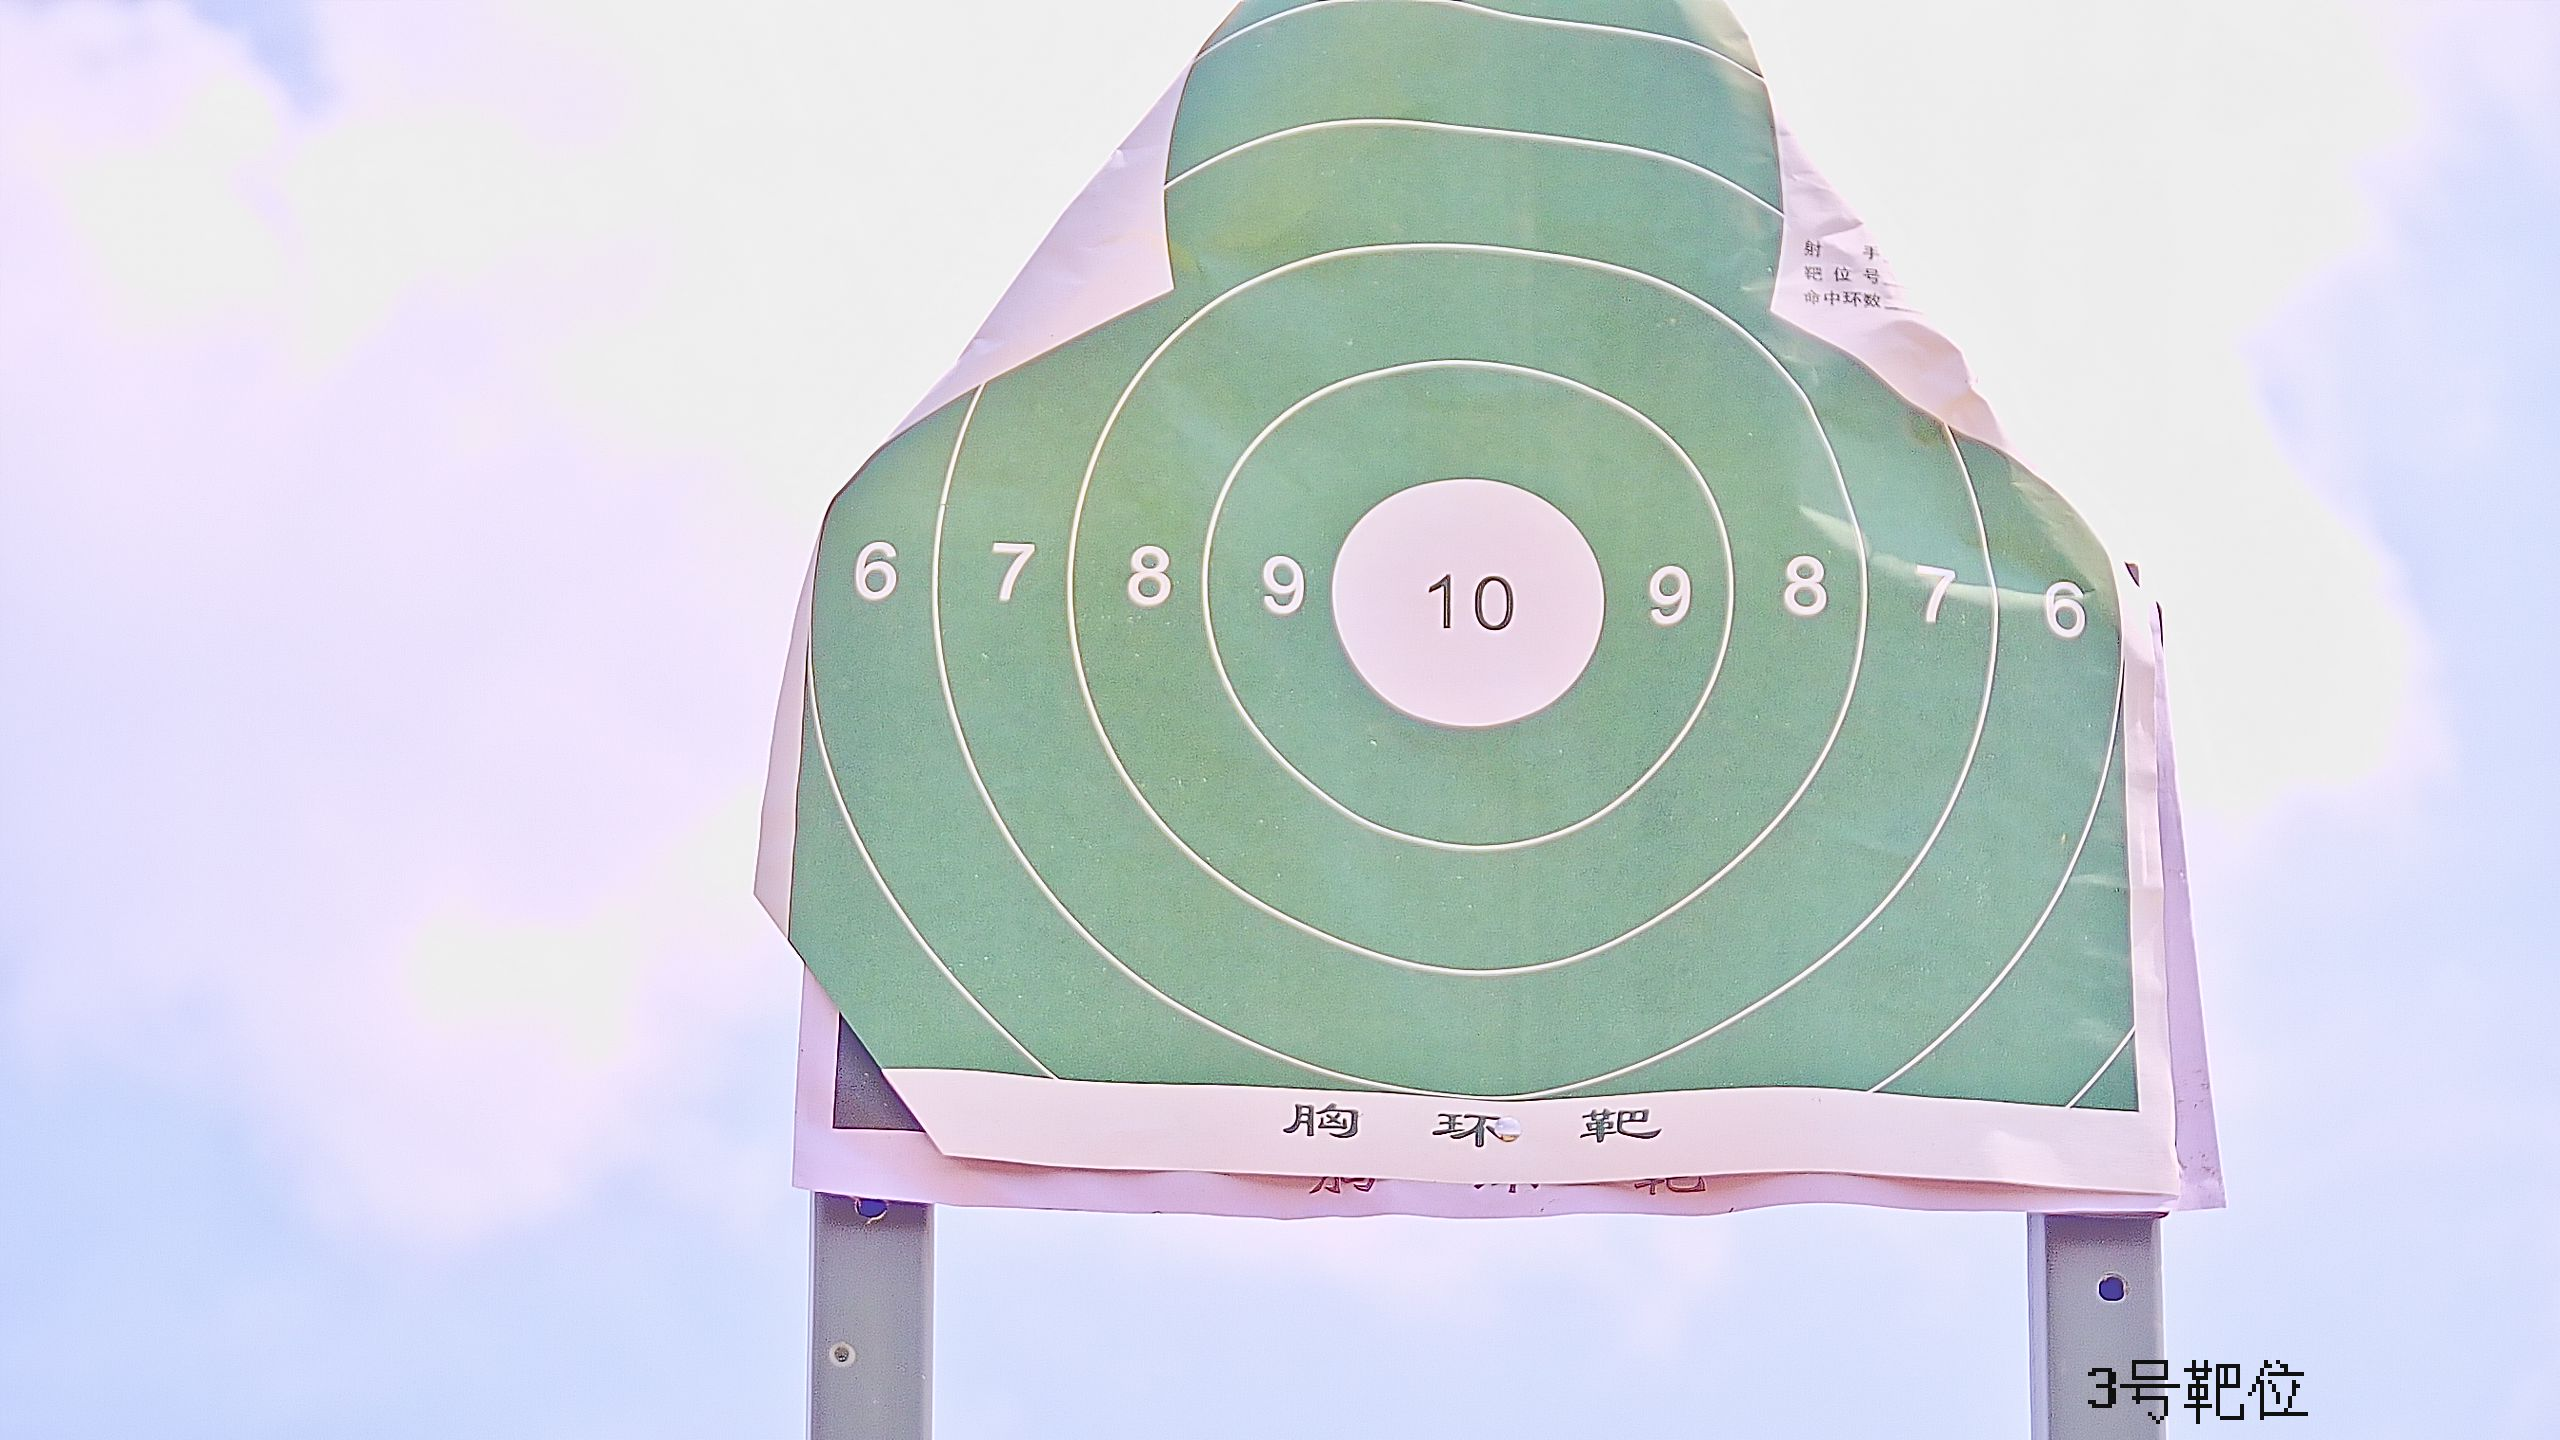kernel: (1466, 601, 1468, 610)
target: (786, 2, 2143, 1122)
ten: (1333, 480, 1609, 730)
